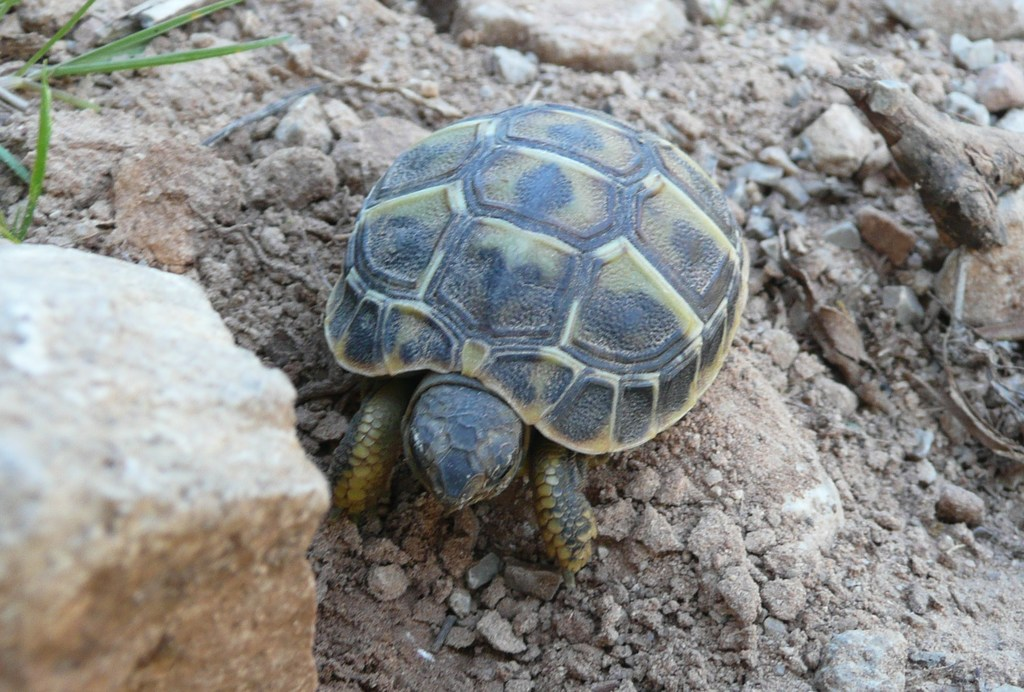Sea turtles: (314, 93, 755, 575)
